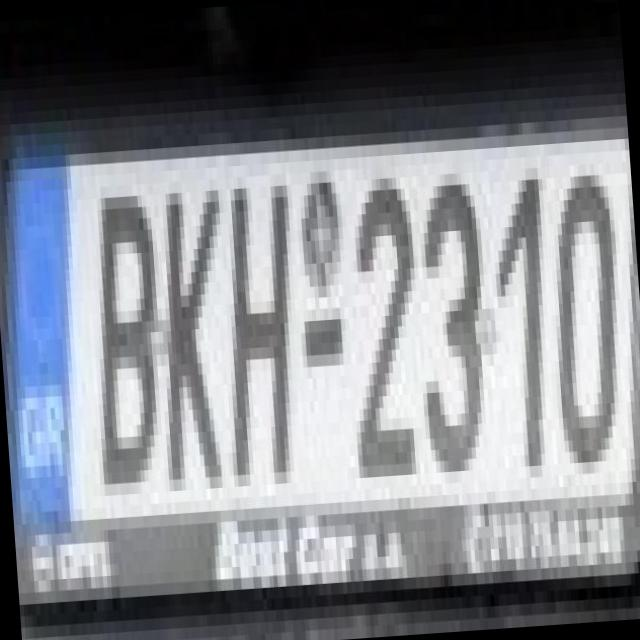0: (528, 139, 638, 453)
1: (466, 144, 570, 468)
2: (329, 153, 436, 478)
3: (398, 148, 500, 474)
B: (65, 148, 169, 486)
H: (198, 139, 311, 487)
K: (138, 155, 242, 492)
